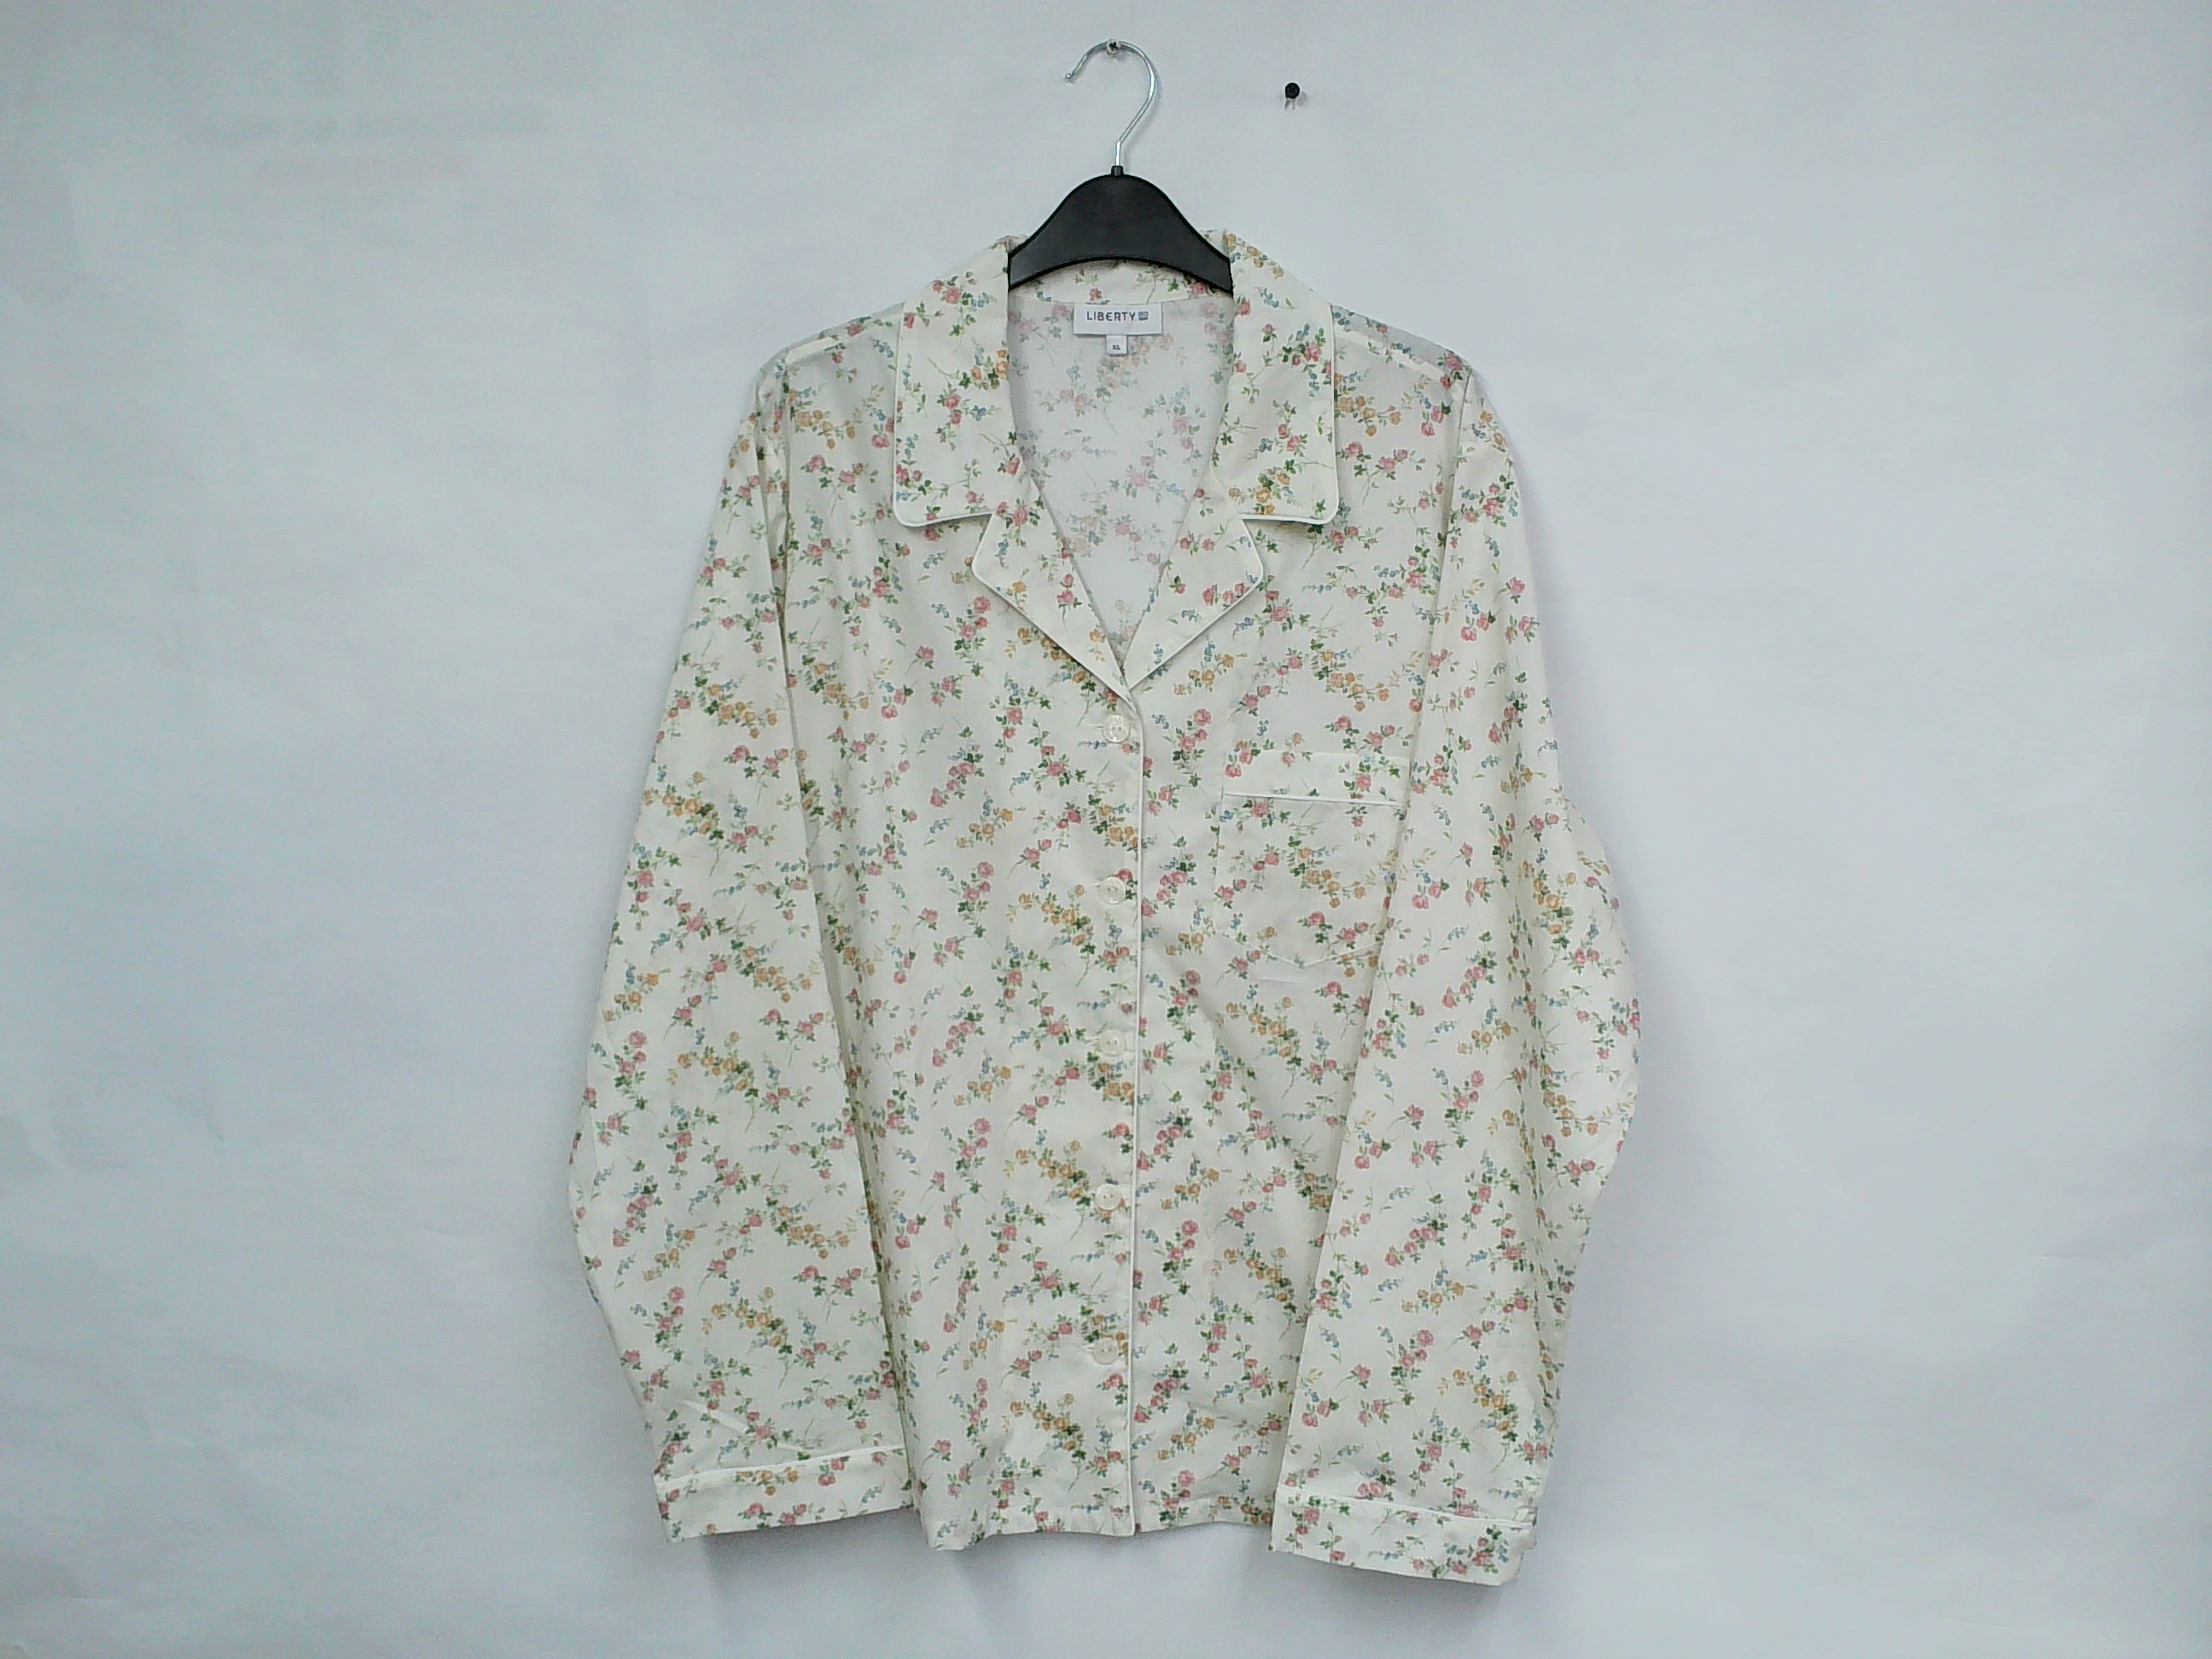bad_fabric: (1216, 945, 1329, 1014)
